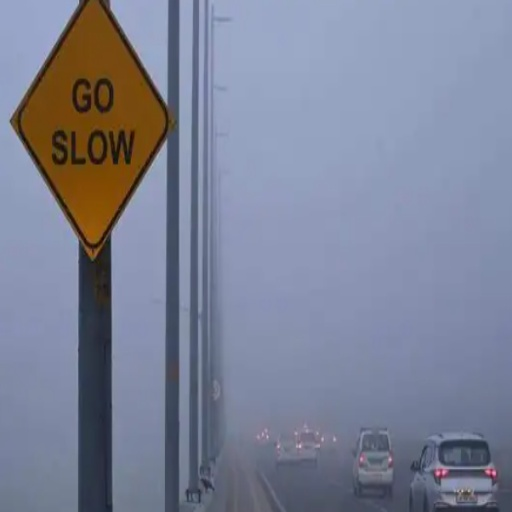go slow: (13, 2, 170, 272)
